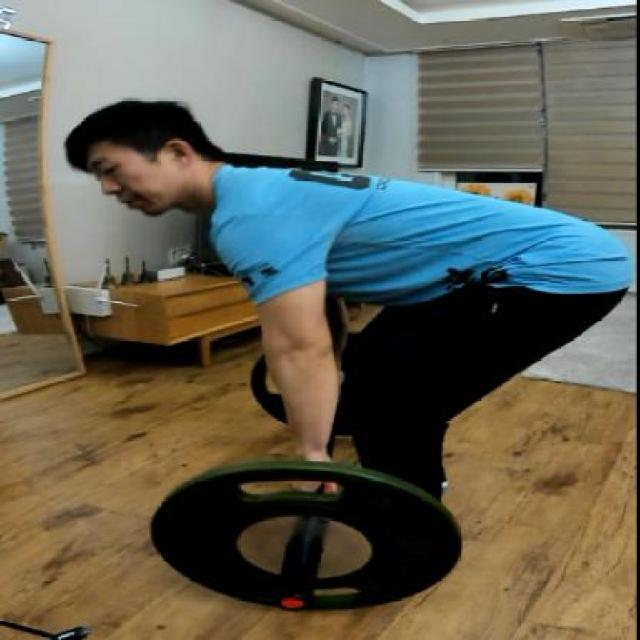barbell: (123, 453, 481, 632)
